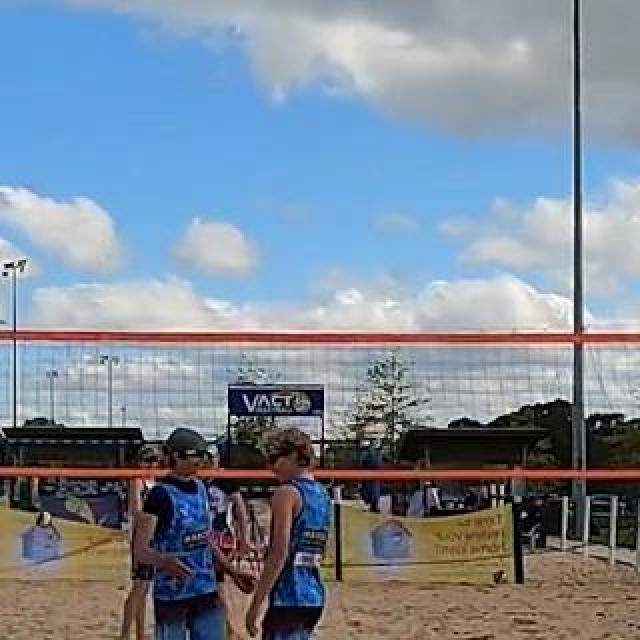volleyball: (491, 568, 509, 586)
